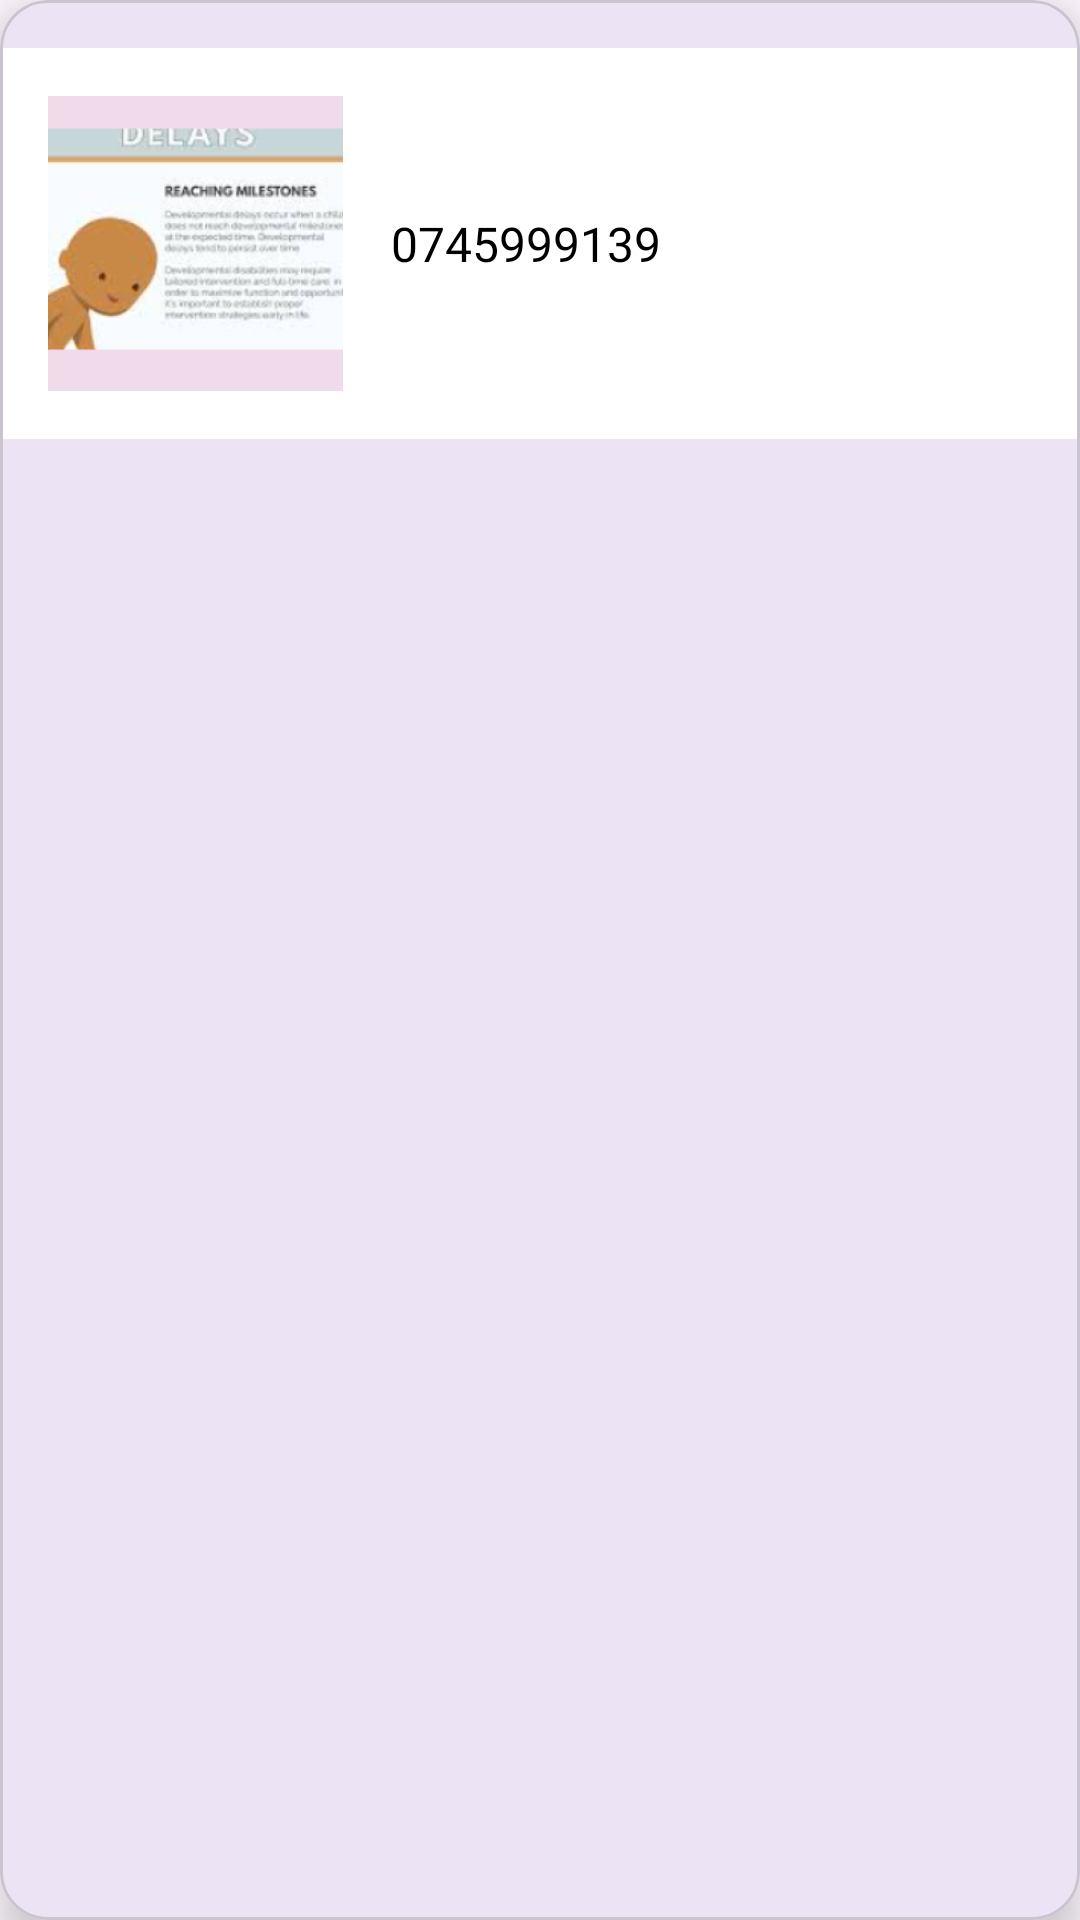

Icon click points for this 1080 × 1920 phone screenshot, format point (x, y):
Resource Image: point (195, 243)
